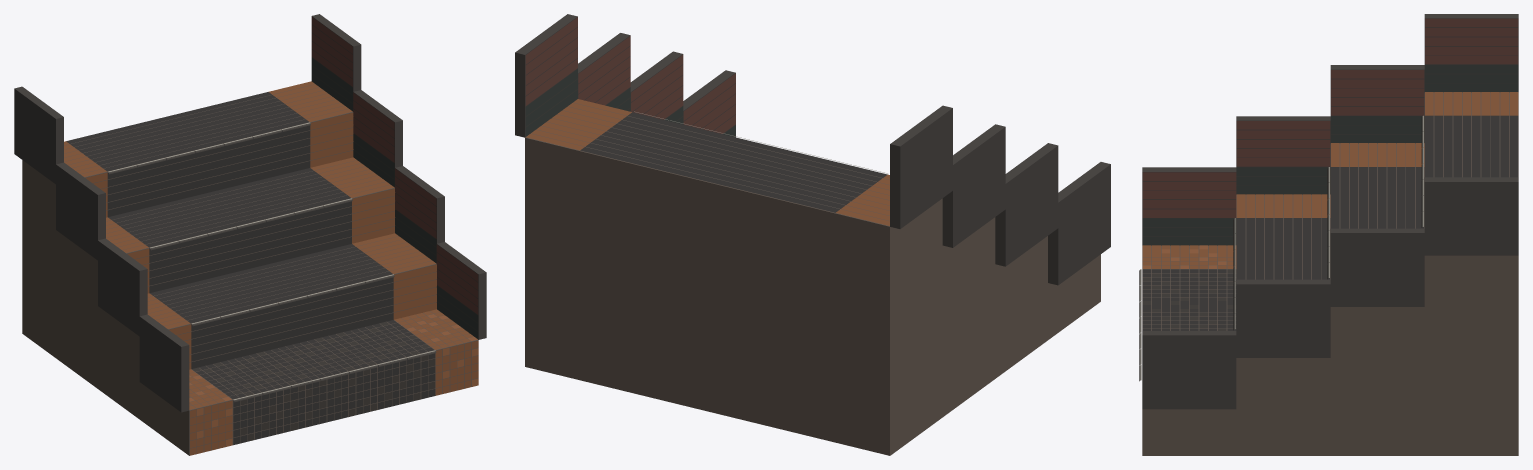
File: xuhui-defour-apartments-mosaic-stair-lod.glb
3 renders of one model, left to right at view 1: azimuth 30°, elevation 25°; view 2: azimuth 150°, elevation 25°; view 3: azimuth 270°, elevation 25°, orthographic. The views are drawn at different scales.
Visible parts, largest first — view 1: 巨福公寓公共楼梯马赛克踏步; view 2: 巨福公寓公共楼梯马赛克踏步; view 3: 巨福公寓公共楼梯马赛克踏步.
Part boxes in pixels (<box>): 巨福公寓公共楼梯马赛克踏步: <box>14,14,486,455</box>; 巨福公寓公共楼梯马赛克踏步: <box>515,14,1110,455</box>; 巨福公寓公共楼梯马赛克踏步: <box>1139,14,1518,455</box>.
Size of the model in its own units: 1.14 by 0.882 by 1.09.
